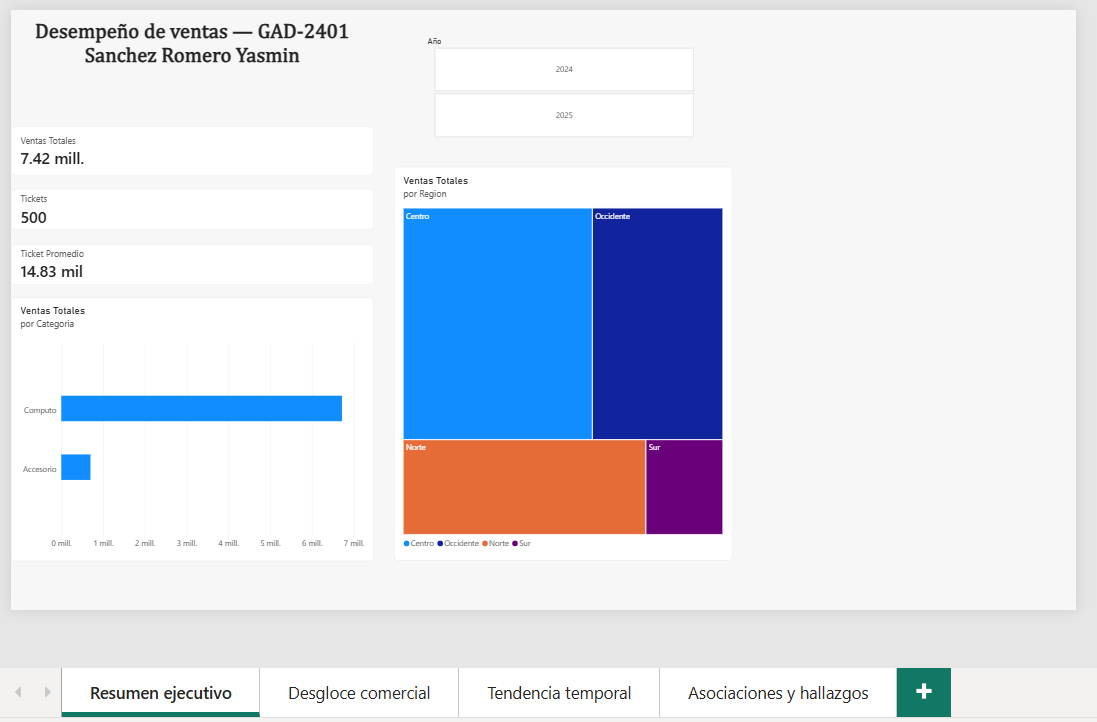

What the dashboard file says about the page in this screenshot:
{"tool":"powerbi","page":{"name":"Resumen ejecutivo","canvas":[1920,1080],"ordinal":0},"visuals":[{"type":"textbox","box":[0,0,653.4,137.6],"z":0},{"type":"cardVisual","fields":{"Data":["Medidas.Ventas Totales"]},"box":[0,210,654,88],"z":1000},{"type":"cardVisual","fields":{"Data":["Medidas.Tickets"]},"box":[0,322,654,74],"z":2000},{"type":"cardVisual","fields":{"Data":["Medidas.Ticket Promedio"]},"box":[0,422,654,72],"z":3000},{"type":"clusteredBarChart","fields":{"Category":["Dim Producto.Categoria"],"Y":["Medidas.Ventas Totales"]},"box":[0,518,654,476],"z":4000},{"type":"treemap","fields":{"Group":["Dim Cliente.Region"],"Values":["Medidas.Ventas Totales"]},"box":[690,283.3,610,710],"z":5000},{"type":"slicer","fields":{"Values":["Dim Fecha.Anio"]},"box":[742,48,506.7,183.3],"z":6000}]}

Visuals, with their boxes on the page's 1920x1080 design canvas (x1, y1, x2, y2). These are canvas units, not pixel positions in the 1097x722 screenshot, which may show the page scaled, cropped or inside an application window:
textbox: rect(0, 0, 653, 138)
cardVisual - Medidas.Ventas Totales: rect(0, 210, 654, 298)
cardVisual - Medidas.Tickets: rect(0, 322, 654, 396)
cardVisual - Medidas.Ticket Promedio: rect(0, 422, 654, 494)
clusteredBarChart - Dim Producto.Categoria x Medidas.Ventas Totales: rect(0, 518, 654, 994)
treemap - Dim Cliente.Region x Medidas.Ventas Totales: rect(690, 283, 1300, 993)
slicer - Dim Fecha.Anio: rect(742, 48, 1249, 231)
